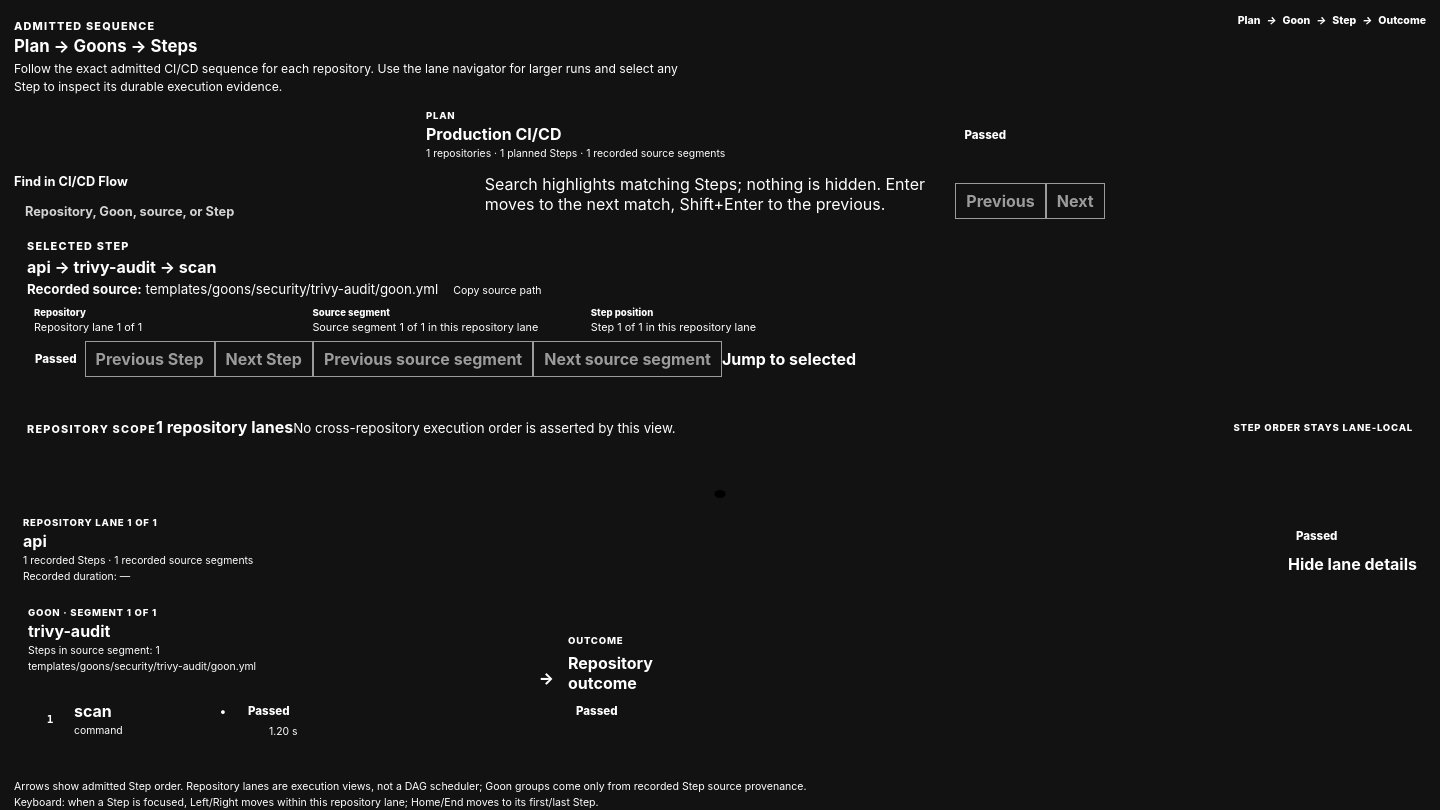
Test case: GameTapeFlow › copies the exact recorded source path without interpreting it
Step 1. Click the button "Copy source path" → (497, 291), box [446,282,549,300]
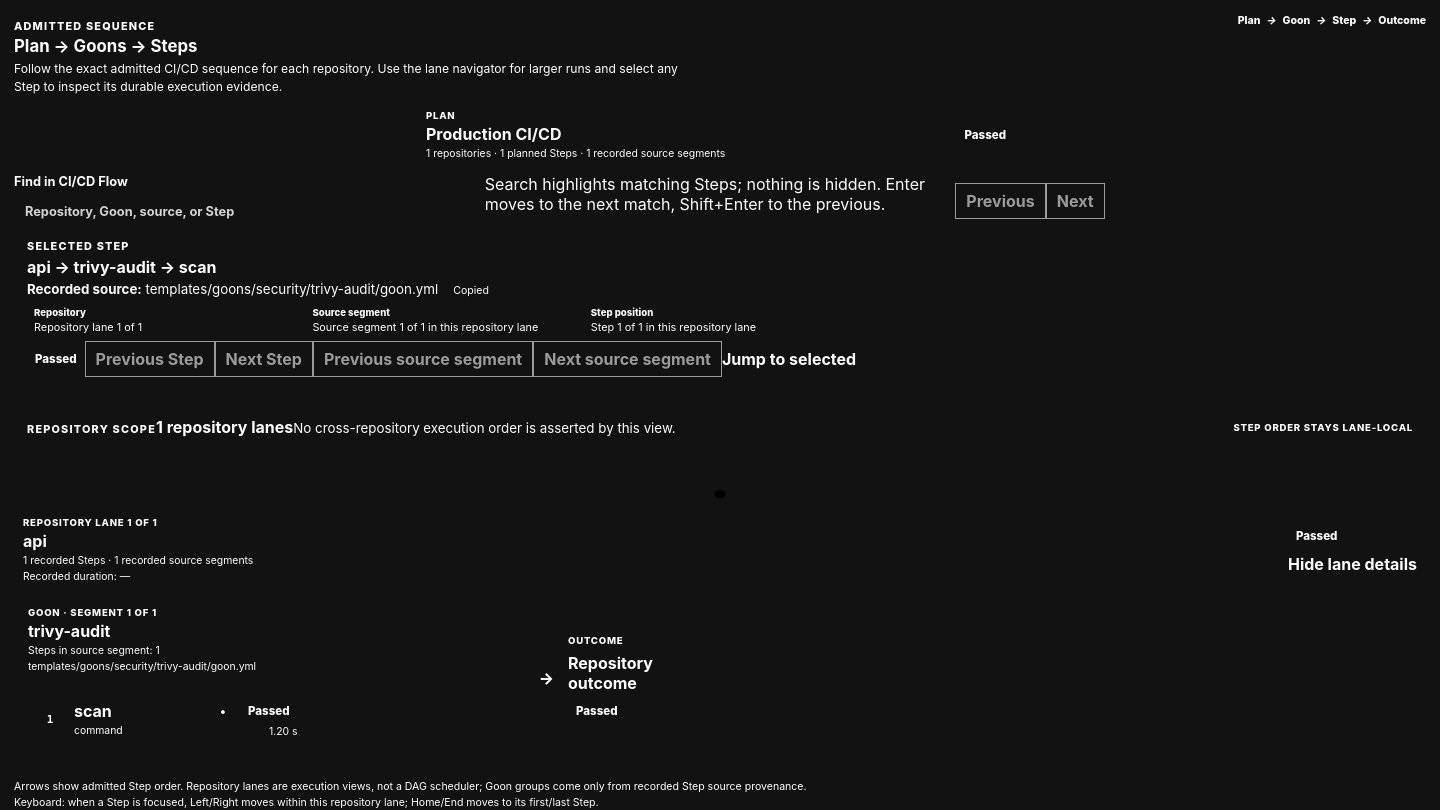
Now the button "Copied" is shown, box [446,282,496,300]
